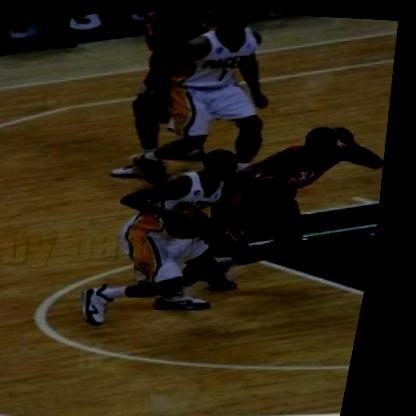basketball: (172, 197, 226, 244)
